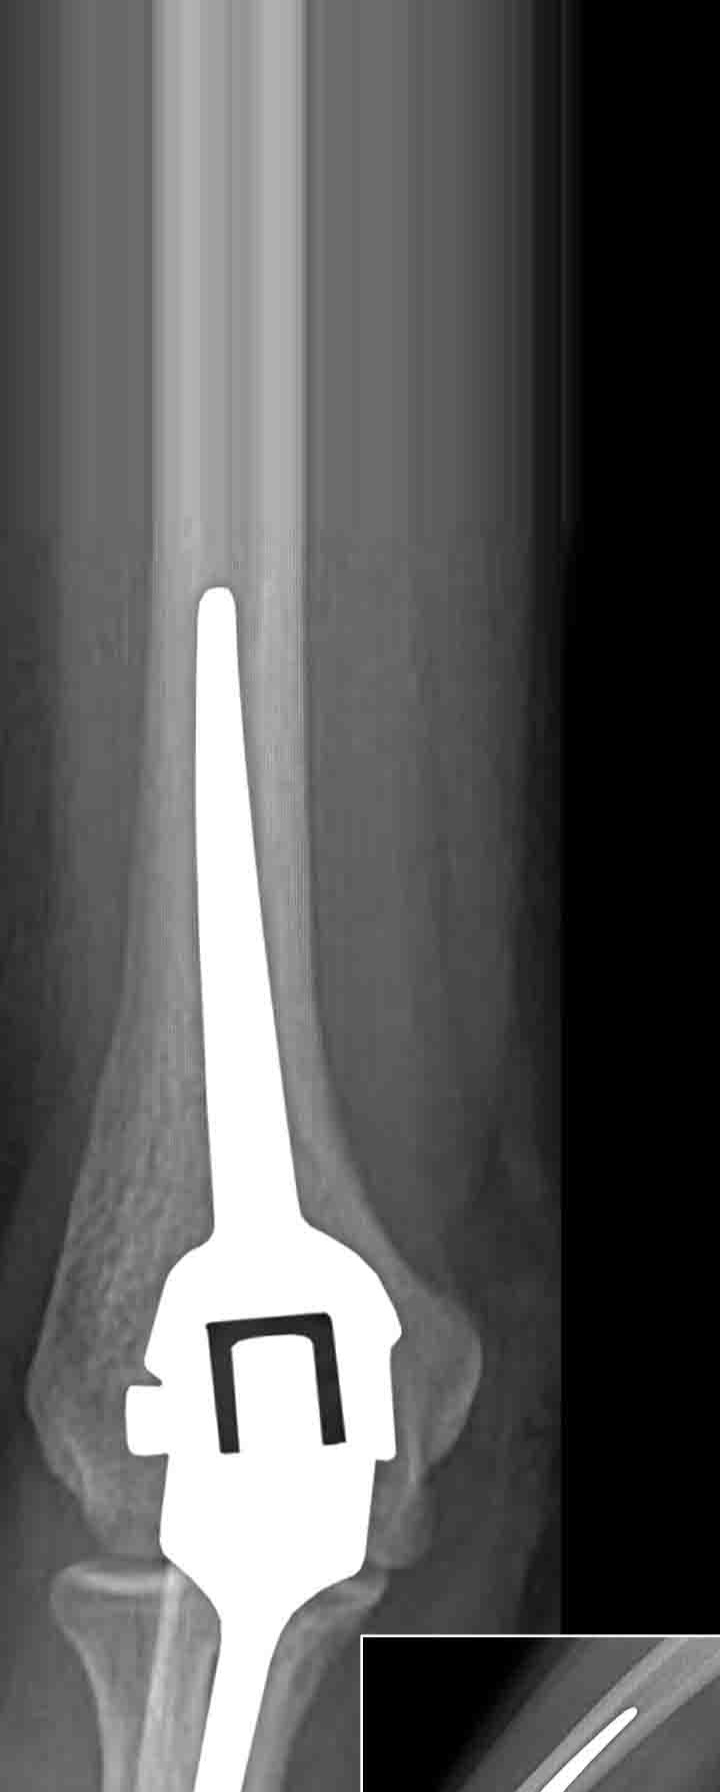Elbow - Osteonics - Stryker: (53, 563, 432, 1792)
